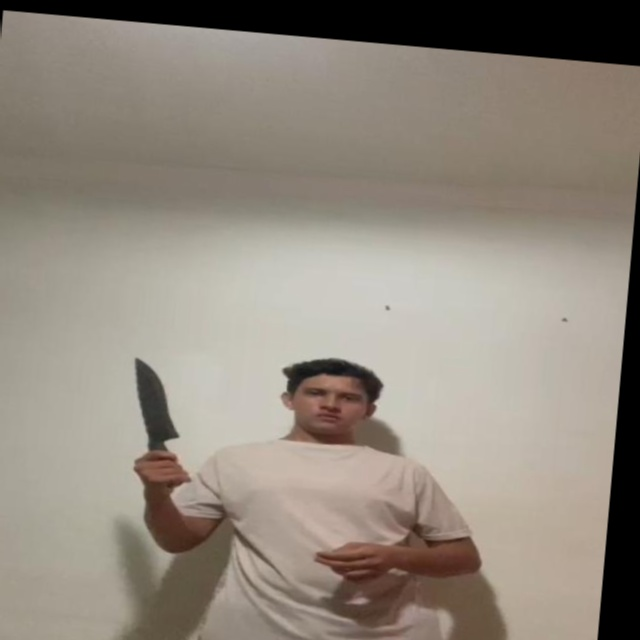Sharp-Object: (127, 357, 192, 447)
